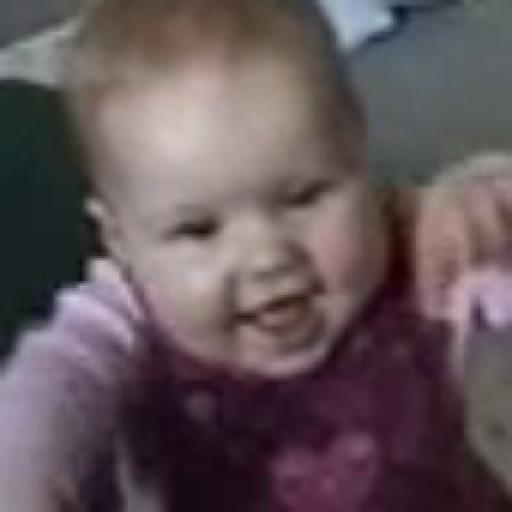Autism: (62, 0, 457, 469)
